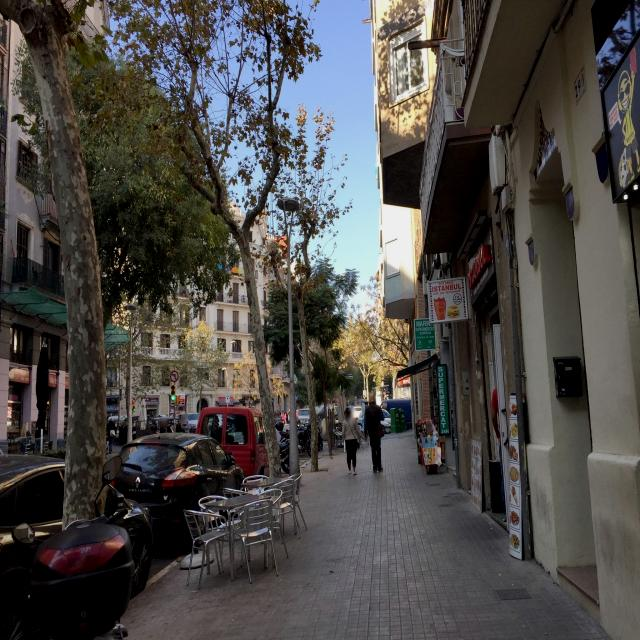car: (0, 452, 155, 639), (109, 432, 245, 548), (196, 403, 269, 484), (378, 406, 392, 434)
